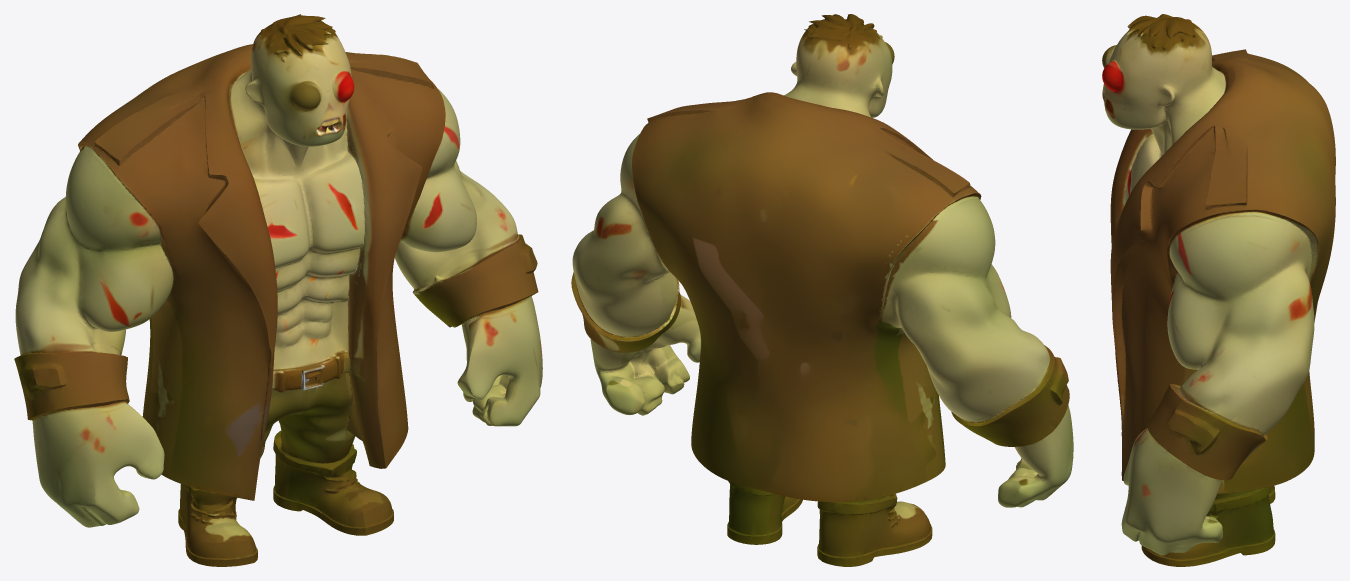
Rendered from base_basic_pbr.fbx.
3 views of the same model, side by side, from view 1: azimuth 30°, elevation 25°; view 2: azimuth 150°, elevation 25°; view 3: azimuth 270°, elevation 25° (orthographic). The views are drawn at different scales.
Visible parts, largest first — view 1: model; view 2: model; view 3: model.
Boxes of the visible parts, x1=… form: model: x1=14, y1=14, x2=542, y2=566; model: x1=571, y1=14, x2=1073, y2=566; model: x1=1102, y1=14, x2=1335, y2=566.
Size of the model in its own units: 190 by 186 by 78.76.
1 material, 1 textured.
